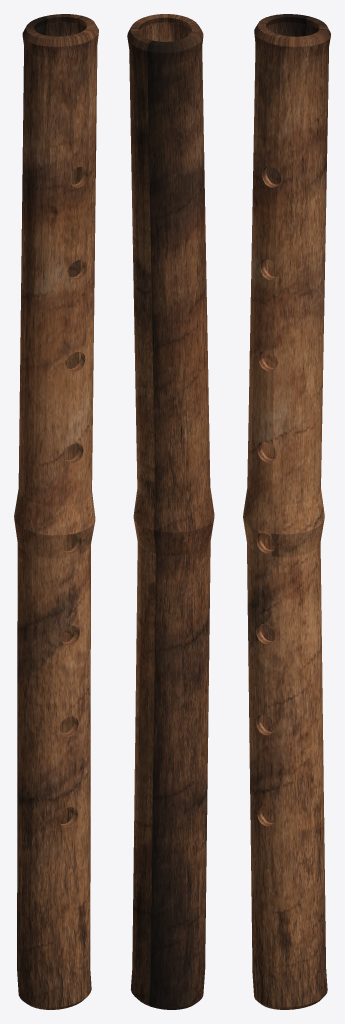
The model's file is pinkiui.glb.
The picture shows the model from 3 angles, left to right: view 1: azimuth 30°, elevation 25°; view 2: azimuth 150°, elevation 25°; view 3: azimuth 330°, elevation 25°; orthographic projection.
Visible parts, largest first — view 1: Cylinder; view 2: Cylinder; view 3: Cylinder.
Part boxes in pixels (x1=…): Cylinder: x1=14, y1=14, x2=98, y2=1009; Cylinder: x1=127, y1=14, x2=214, y2=1009; Cylinder: x1=243, y1=14, x2=330, y2=1009.
Size of the model in its own units: 0.3354 by 4.09 by 0.3204.
1 material, 1 textured.
